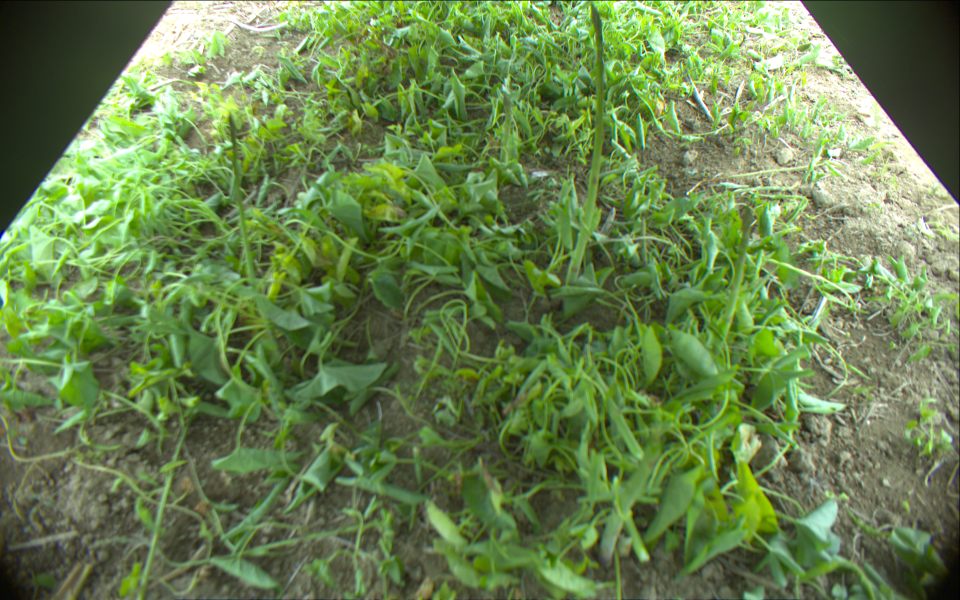aspa: (568, 2, 605, 279), (227, 113, 261, 309), (717, 206, 753, 344)
